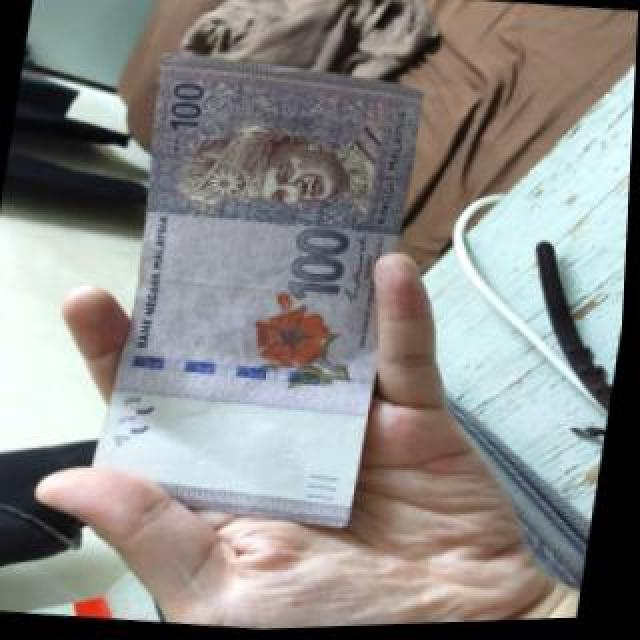100 Ringgit: (94, 42, 444, 554)
